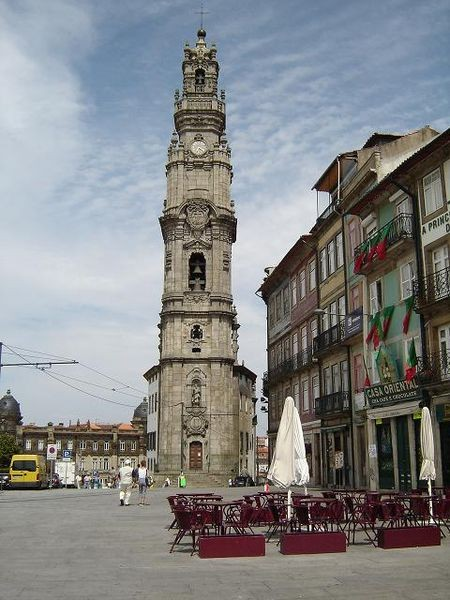clerigos: (155, 0, 241, 480)
